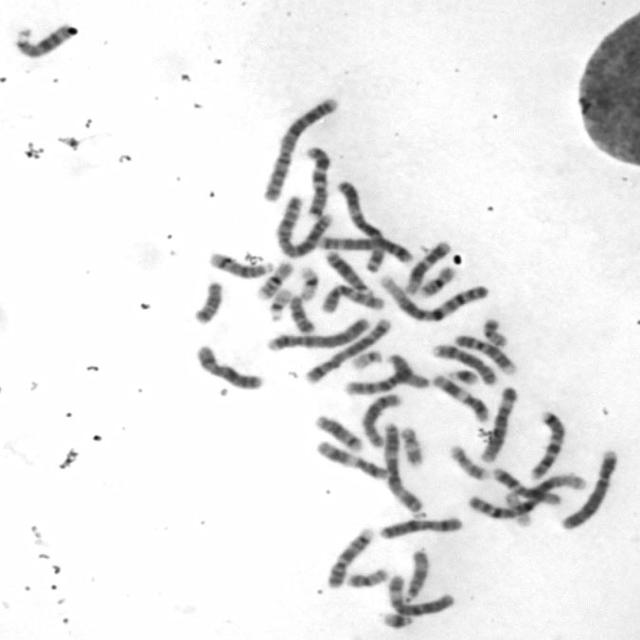A1: (463, 470, 588, 520), (376, 271, 487, 324)
A2: (257, 94, 342, 202), (273, 192, 336, 260)
A3: (333, 177, 387, 276), (380, 419, 426, 515)
B4: (558, 446, 620, 531), (262, 314, 373, 353)
B5: (302, 314, 393, 386), (315, 233, 416, 264)
C10: (339, 351, 417, 396), (316, 282, 386, 315)
C11: (312, 437, 390, 482), (429, 371, 491, 424)
C12: (488, 466, 562, 506), (402, 238, 452, 295)
C6: (383, 572, 458, 618), (476, 383, 519, 462)
C7: (526, 408, 567, 481), (301, 142, 332, 218)
C8: (430, 341, 499, 387), (357, 390, 404, 449)
C9: (325, 526, 375, 593), (451, 332, 518, 374)
D13: (11, 21, 76, 60), (322, 247, 372, 295)
D14: (204, 248, 274, 280), (310, 412, 364, 452)
D15: (384, 351, 431, 390), (400, 546, 431, 602)
E16: (253, 258, 295, 301), (417, 264, 457, 298)
E17: (445, 441, 489, 481), (397, 424, 426, 469)
E18: (190, 278, 226, 326), (286, 292, 317, 334)
F19: (501, 490, 535, 529), (295, 264, 320, 301)
F20: (343, 566, 390, 590), (479, 316, 510, 348)
G21: (378, 608, 416, 630), (445, 366, 480, 385)
G22: (264, 285, 295, 322), (348, 347, 384, 371)
X: (191, 342, 266, 392), (376, 513, 464, 541)
